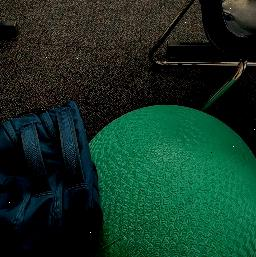algae: (82, 108, 256, 257)
